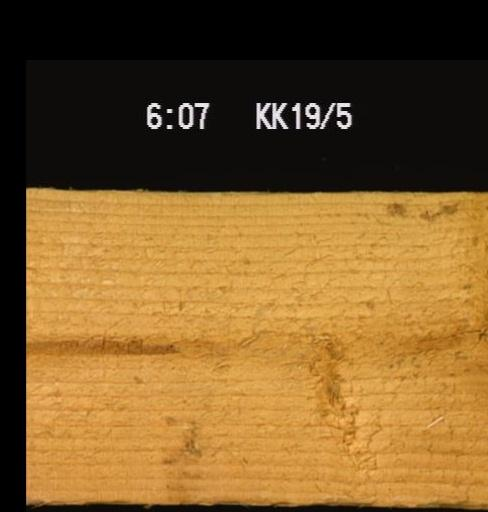small_knot: (307, 328, 348, 366)
